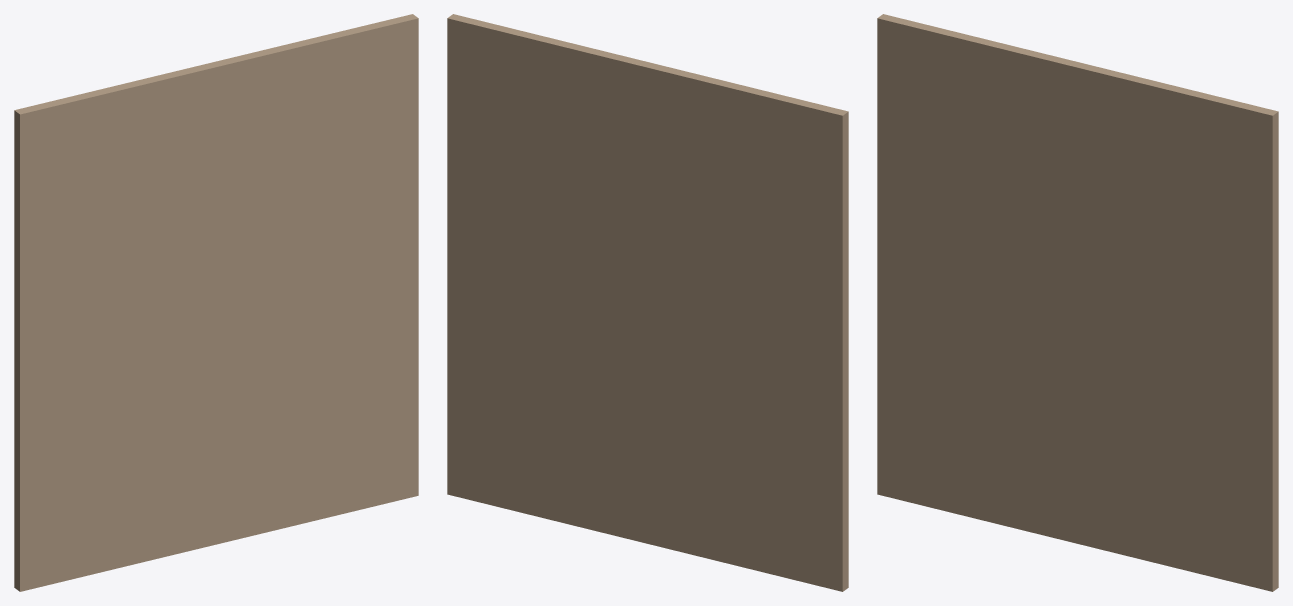
The model's file is mesh155__7c954ba8_947f_6047_8603_d4fa9fe152b1__0_lev1.glb.
The picture shows the model from 3 angles, left to right: view 1: azimuth 30°, elevation 25°; view 2: azimuth 150°, elevation 25°; view 3: azimuth 330°, elevation 25°; orthographic projection.
Visible parts, largest first — view 1: mesh155__7c954ba8_947f_6047_8603_d4fa9fe152b1__0_lev1; view 2: mesh155__7c954ba8_947f_6047_8603_d4fa9fe152b1__0_lev1; view 3: mesh155__7c954ba8_947f_6047_8603_d4fa9fe152b1__0_lev1.
Part boxes in pixels (x1,y1,x2,y2): mesh155__7c954ba8_947f_6047_8603_d4fa9fe152b1__0_lev1: (14, 14, 418, 591); mesh155__7c954ba8_947f_6047_8603_d4fa9fe152b1__0_lev1: (447, 14, 848, 591); mesh155__7c954ba8_947f_6047_8603_d4fa9fe152b1__0_lev1: (877, 14, 1278, 591).
Size of the model in its own units: 3.6 by 4.14 by 0.1087.
